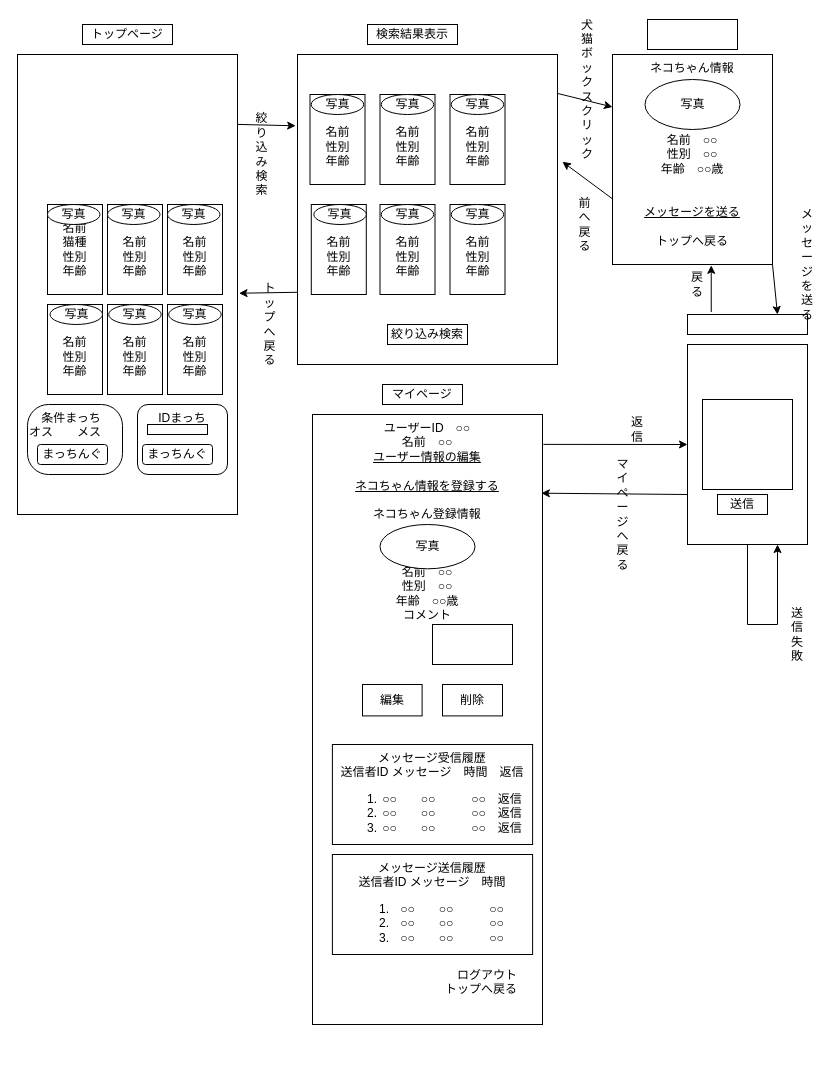
Image size: 835x1081. Some labels were removed from this diagram. The shapes that lost their labels are listed below. From the top down, each one's box as (x1, y1, x2, y2) in pixels, then its label:
(646, 18, 738, 50): ネコちゃん詳細画面
(296, 54, 558, 364): 検索結果 検索条件 ○○、○○
(16, 54, 238, 514): 新規登録 ログイン ペペ オハナ ”ドロップダウンメニュー” 未ログイン時 ログイン ユーザー登録 ログイン時 マイページ ログアウト 新着ネコちゃん情報
(686, 314, 808, 334): メッセージ送信画面
(686, 344, 808, 544): 送信者 ID ○○ 送信相手 ID ○○ メッセージ
